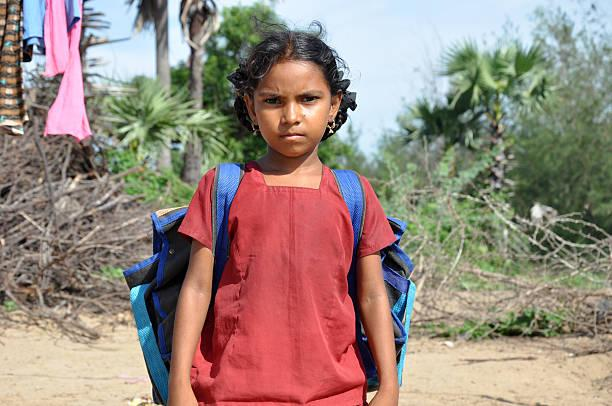Human: (145, 18, 461, 406)
